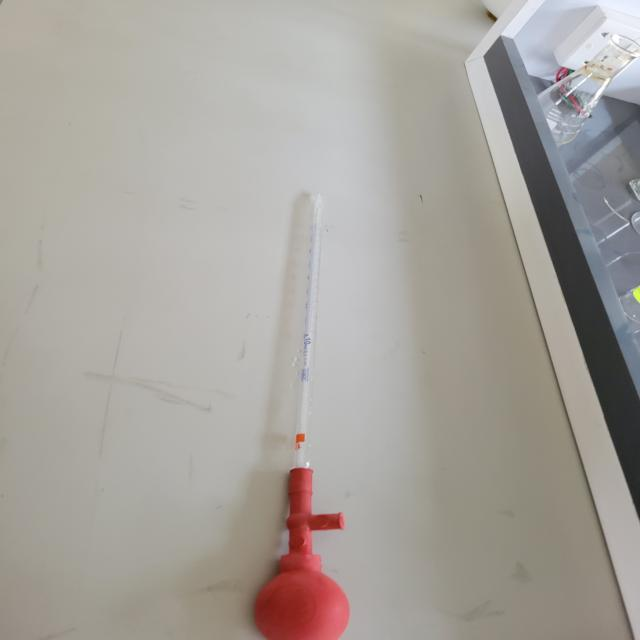Volumetric_Pipet: (240, 170, 380, 640)
